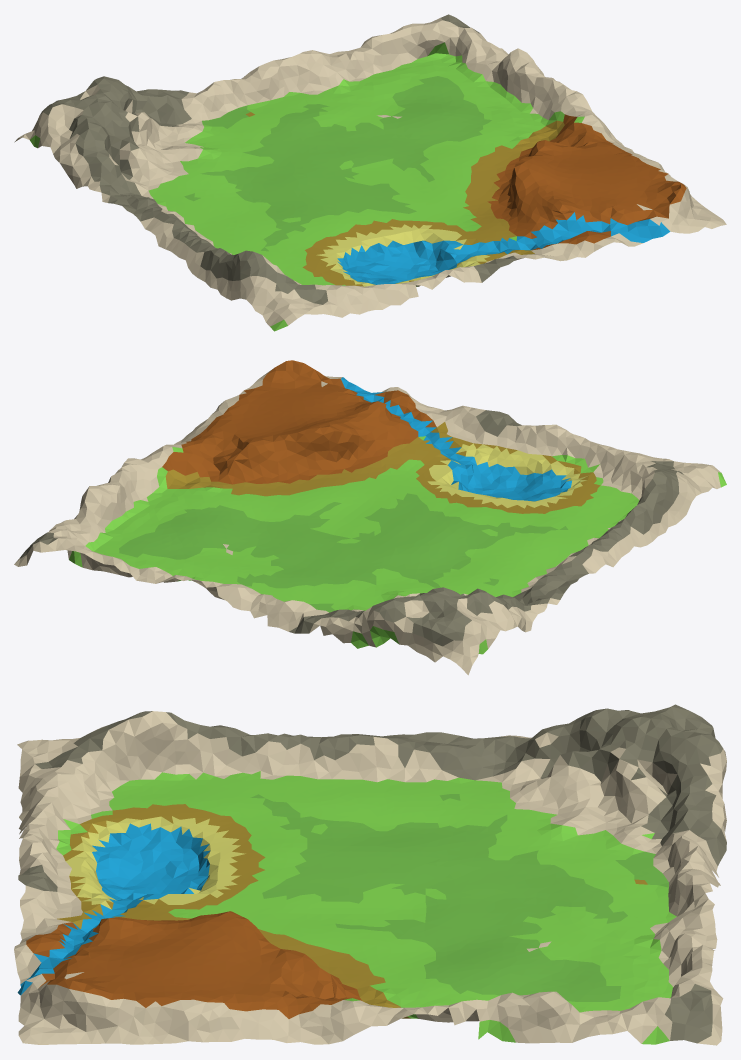
The model's file is First Terrain.fbx.
The picture shows the model from 3 angles, top to bottom: view 1: azimuth 30°, elevation 25°; view 2: azimuth 150°, elevation 25°; view 3: azimuth 270°, elevation 25°; orthographic projection. The views are drawn at different scales.
Visible parts, largest first — view 1: Plane; view 2: Plane; view 3: Plane.
Boxes of the visible parts, box(x1,y1,x2,y2) form: Plane: box(14, 14, 726, 331); Plane: box(14, 360, 726, 675); Plane: box(14, 704, 726, 1045).
Size of the model in its own units: 1822 by 262 by 1841.
